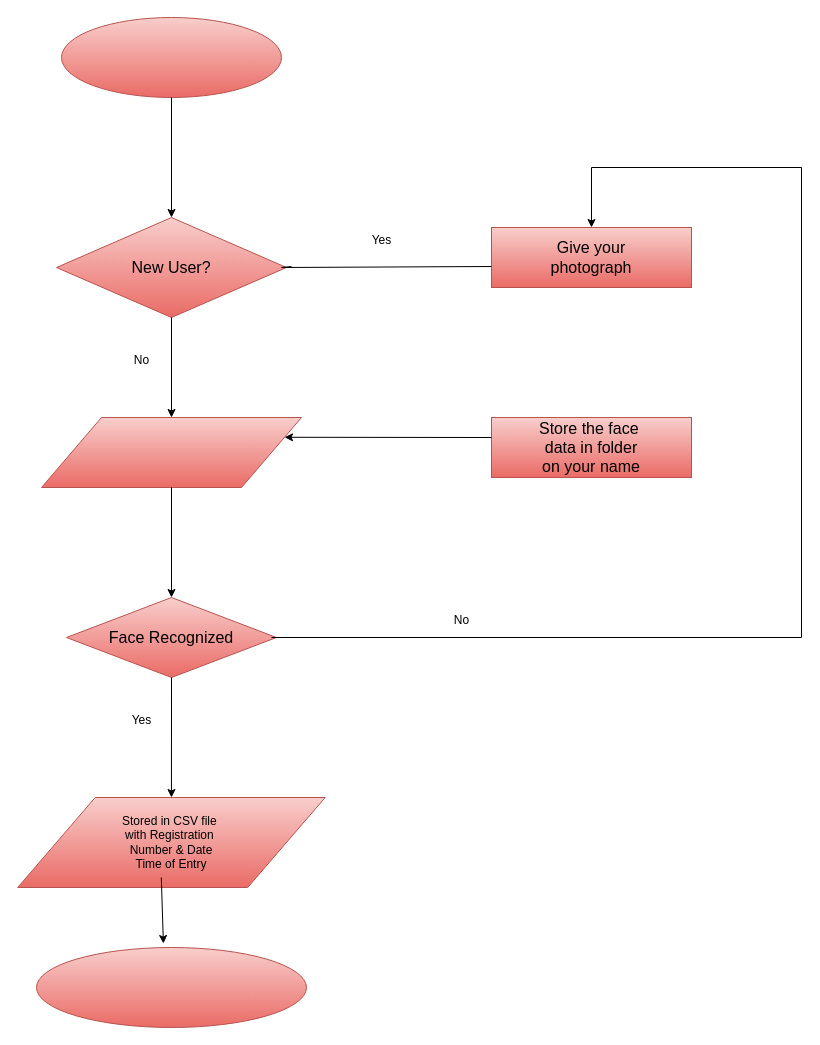
Image size: 820x1045. Some labels were removed from this diagram. The shapes that lost their labels are listed below. From the top down, each one's centre as x and y in pixels, then its label:
At point 171,57: "Start".
At point 171,452: "Recognize the face".
At point 171,987: "End".
